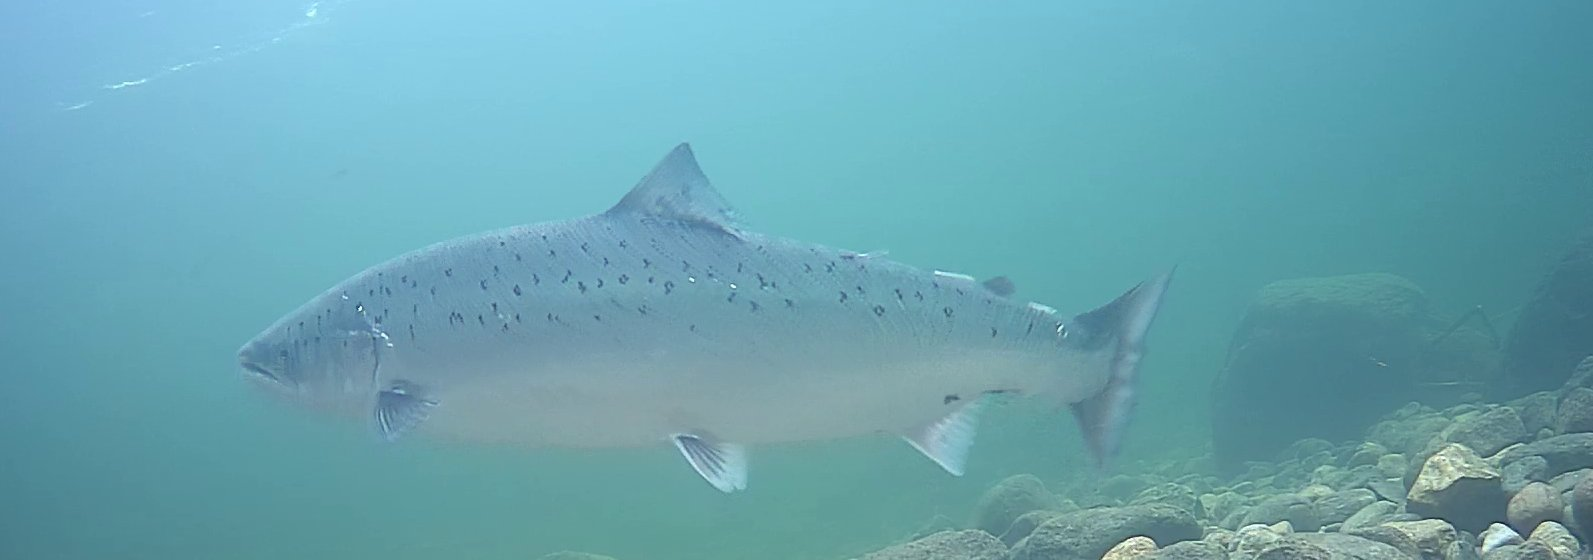salmon: (234, 137, 1178, 494)
